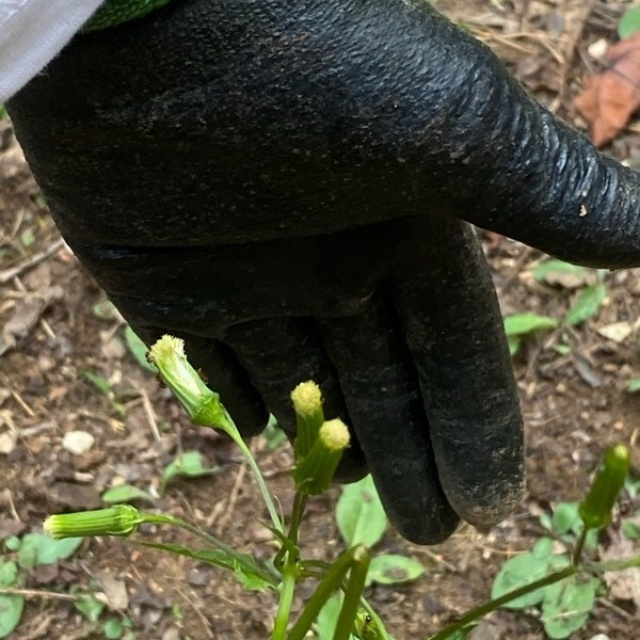obstacle: (62, 316, 418, 639)
